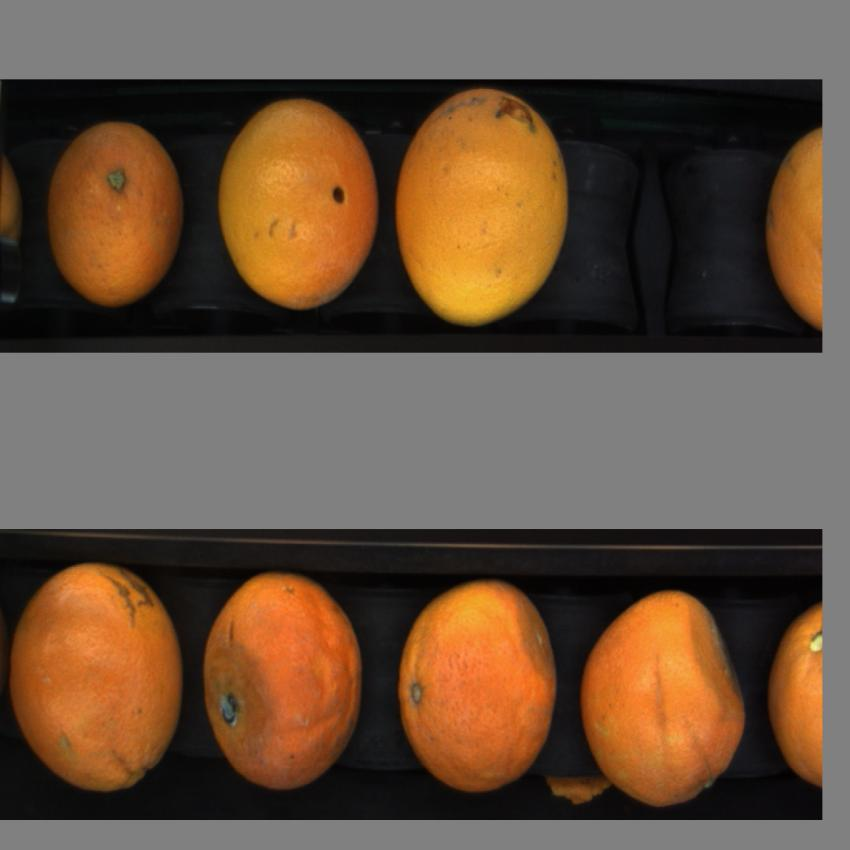Buen estado: (395, 96, 576, 326), (5, 568, 190, 791), (217, 103, 388, 316), (752, 120, 824, 339)
Mal estado: (575, 580, 756, 808), (394, 571, 566, 801), (200, 564, 370, 795), (47, 113, 192, 314), (766, 591, 823, 805)
